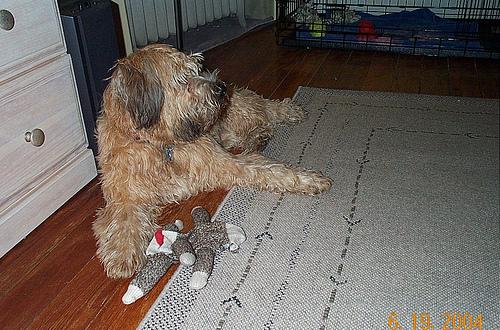dog-wheaten_terrier: (118, 44, 227, 128)
